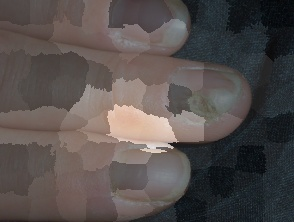Nail_psoriasis: (168, 75, 247, 136), (102, 170, 189, 219), (99, 21, 158, 57)
